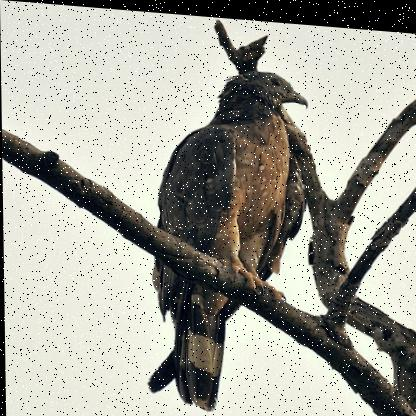Burung: (142, 59, 329, 412)
